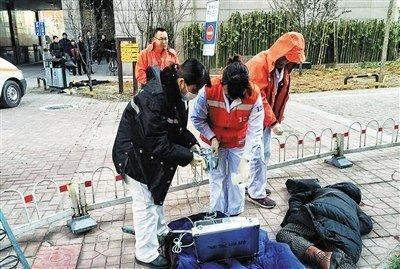Fall-Detected: (265, 169, 380, 269)
